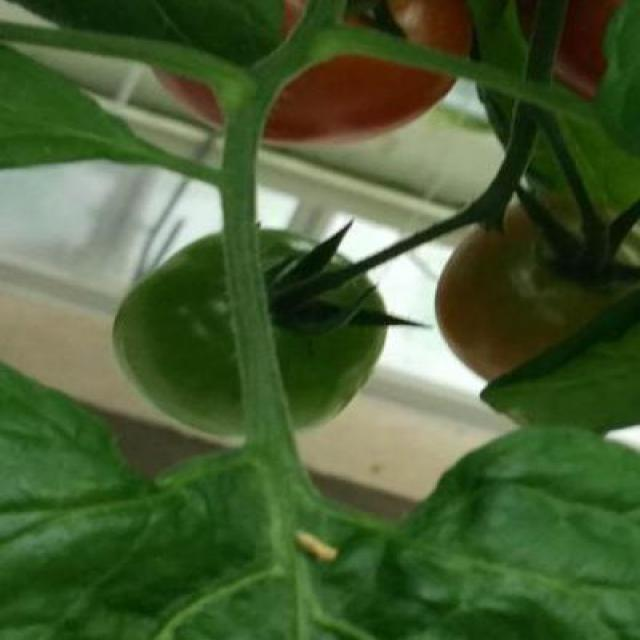tomato: (151, 0, 476, 145)
